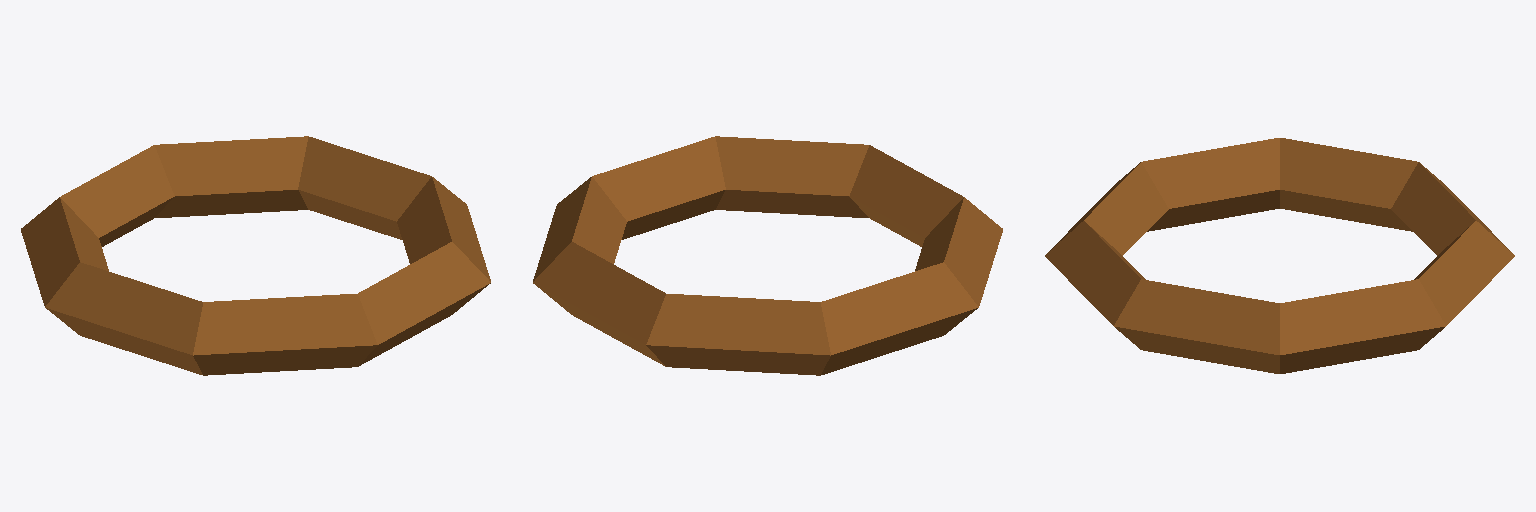
The robot description file, URDF, robot "donut.urdf":
<?xml version="1.0" ?>
<robot name="donut.urdf">
  <link name="donut_link">
    <inertial>
      <origin xyz="0 0 0" rpy="0 0 0"/>
      <mass value="0.1"/>
      <inertia ixx="0" ixy="0" ixz="0" iyy="0" iyz="0" izz="0"/>
    </inertial>

    <visual>
      <origin xyz="0 0 0" rpy="0 0 0"/>
      <geometry>
        <mesh filename="donut.dae" scale="1 1 1"/>
      </geometry>
      <material name="brownish">
        <color rgba="0.6 0.4 0.2 1"/>
      </material>
    </visual>

    <collision>
      <origin xyz="0 0 0" rpy="0 0 0"/>
      <geometry>
        <mesh filename="donut.dae" scale="1 1 1"/>
      </geometry>
    </collision>

  </link>

</robot>

--- What the picture shows (computed from the rendered views, not written in the file) ---
Views: 3 orthographic renders of the robot side by side, from view 1: azimuth 30°, elevation 25°; view 2: azimuth 150°, elevation 25°; view 3: azimuth 270°, elevation 25°.
Robot: donut.urdf — 1 links, 0 joints (none); root link donut_link; default pose: every joint at zero.
Links seen in each view (by area): view 1: donut_link; view 2: donut_link; view 3: donut_link.
Boxes of the visible links, left/top/right/bottom form: donut_link: left=21, top=136, right=490, bottom=375; donut_link: left=533, top=136, right=1002, bottom=375; donut_link: left=1045, top=138, right=1514, bottom=373.
Size in the robot's own frame: 2.4 by 2.4 by 0.4 metres.
Meshes: 1 distinct files referenced, 1 mesh visuals loaded (1 Collada DAE).